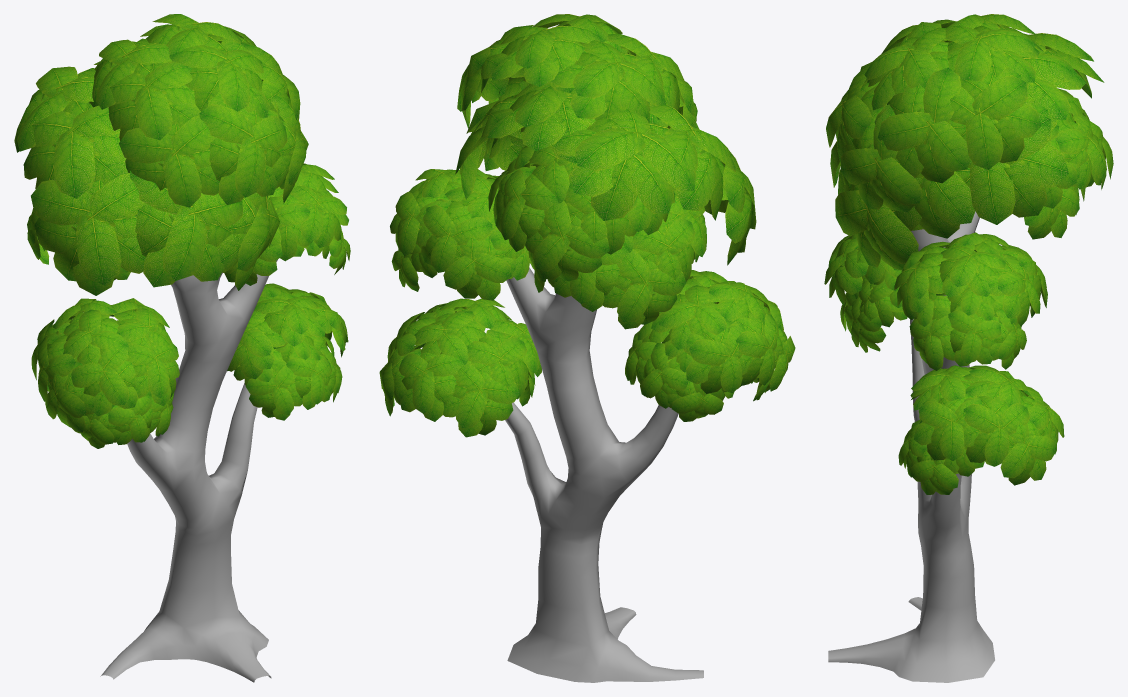
File: träd_2.fbx
3 renders of one model, left to right at view 1: azimuth 30°, elevation 25°; view 2: azimuth 150°, elevation 25°; view 3: azimuth 270°, elevation 25°, orthographic. The views are drawn at different scales.
Visible parts, largest first — view 1: pCube51, pCube1; view 2: pCube51, pCube1; view 3: pCube51, pCube1.
Part boxes in pixels (x1,y1,x2,y2): pCube51: (14,14,350,448); pCube1: (100,259,277,682); pCube51: (379,14,795,437); pCube1: (505,267,703,682); pCube51: (824,14,1113,494); pCube1: (828,211,994,682).
Size of the model in its own units: 10.18 by 17.89 by 7.48.
